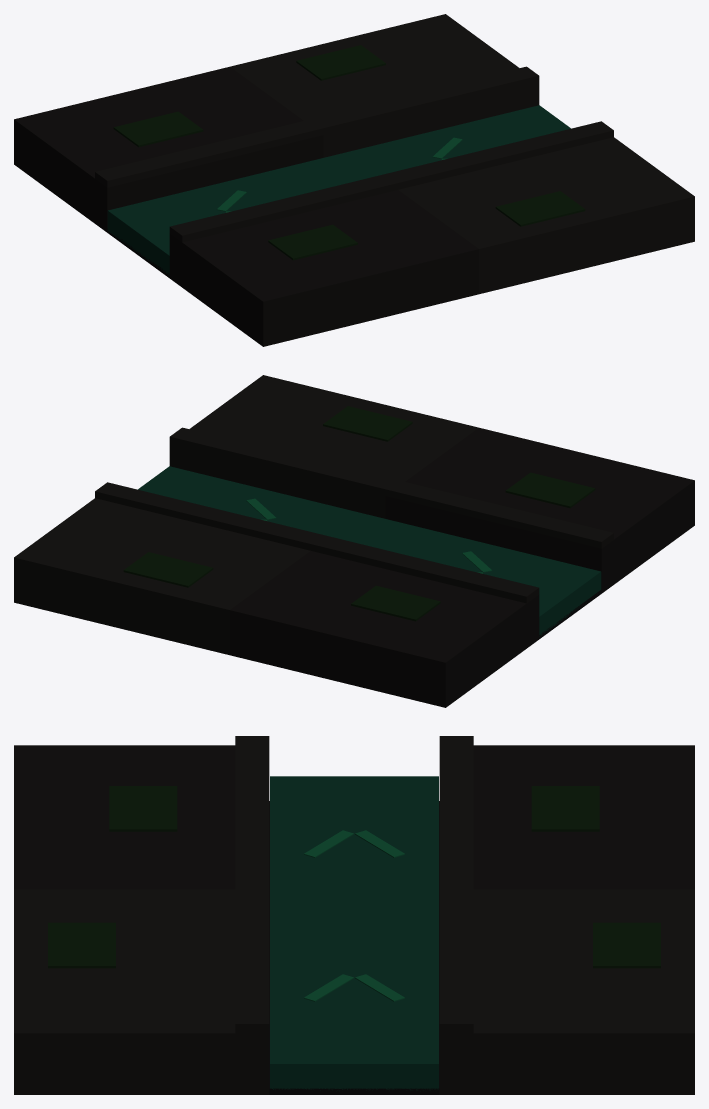
Rendered from SM_Hide_Channel_2x2.glb.
3 views of the same model, one above another, from view 1: azimuth 30°, elevation 25°; view 2: azimuth 150°, elevation 25°; view 3: azimuth 270°, elevation 25° (orthographic). The views are drawn at different scales.
Parts seen in each view (by area): view 1: SM_Hide_Channel_2x2-col; view 2: SM_Hide_Channel_2x2-col; view 3: SM_Hide_Channel_2x2-col.
Boxes of the visible parts, x1,y1,x2,y2 form: SM_Hide_Channel_2x2-col: [14, 14, 694, 346]; SM_Hide_Channel_2x2-col: [14, 375, 694, 707]; SM_Hide_Channel_2x2-col: [14, 736, 694, 1094].
Size of the model in its own units: 2 by 0.23 by 2.
